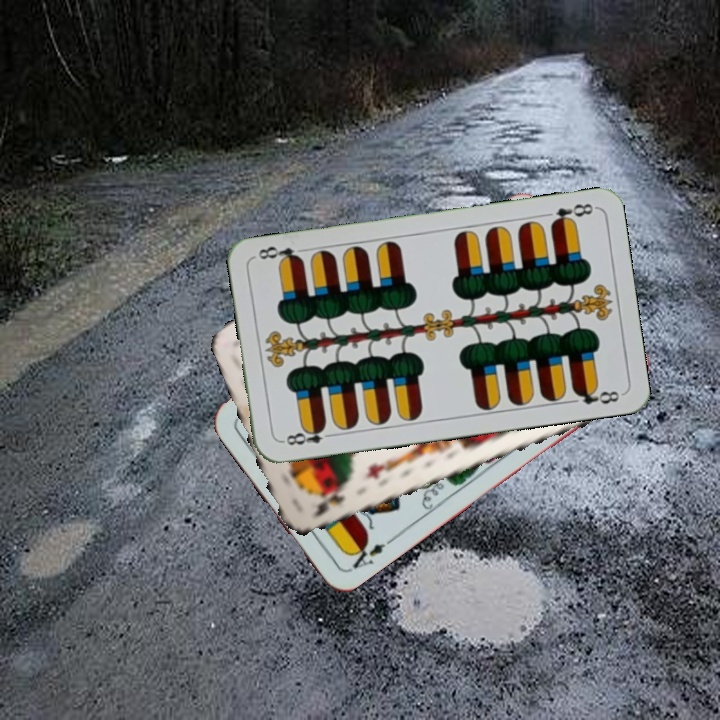E8: (278, 421, 337, 448), (547, 199, 597, 229)
EA: (344, 534, 396, 575)
SK: (308, 484, 348, 521)
